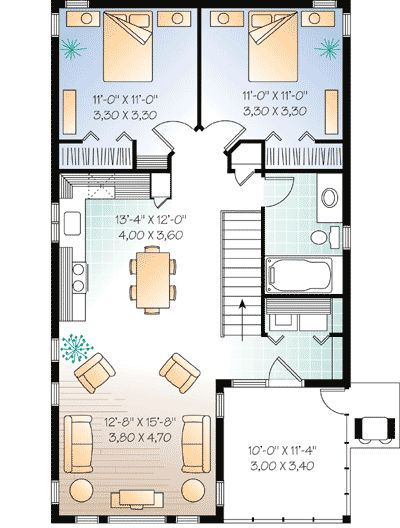door: (210, 113, 247, 139), (149, 115, 185, 141), (270, 174, 298, 206), (263, 352, 301, 375), (318, 387, 342, 418)
room: (46, 168, 226, 528), (196, 1, 353, 175), (47, 1, 203, 173), (260, 167, 351, 298), (260, 294, 353, 389)
window: (105, 513, 166, 528), (228, 376, 271, 390), (48, 200, 61, 244), (211, 390, 227, 419), (47, 336, 61, 364), (47, 379, 61, 407), (47, 477, 61, 505), (340, 11, 353, 39), (49, 12, 62, 38), (342, 222, 352, 252), (213, 479, 224, 506), (172, 514, 199, 525), (73, 513, 100, 524)
